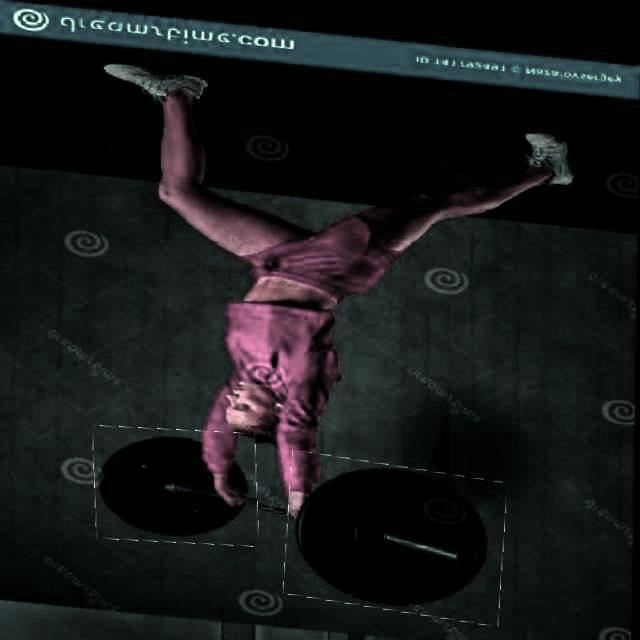barbell: (287, 445, 507, 614), (96, 417, 261, 547)
